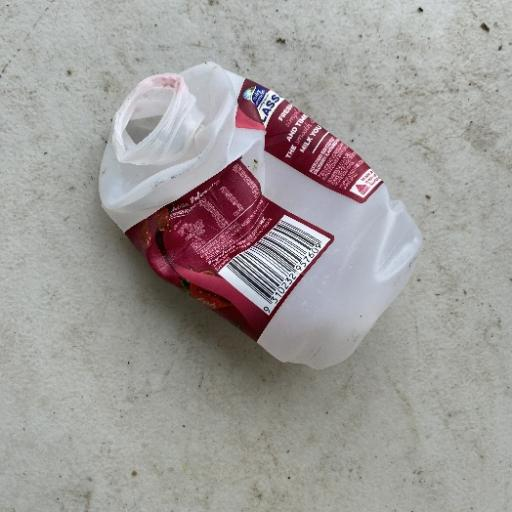Plastic: (97, 61, 424, 371)
